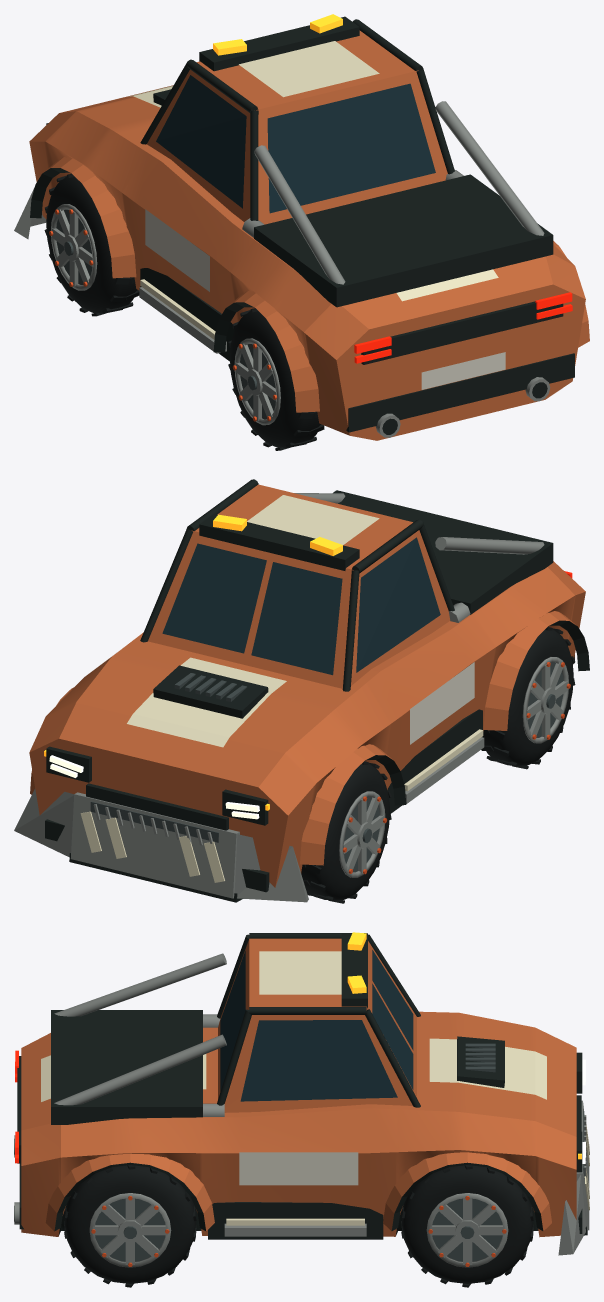
Rendered from bruiser.glb.
3 views of the same model, one above another, from view 1: azimuth 30°, elevation 25°; view 2: azimuth 150°, elevation 25°; view 3: azimuth 270°, elevation 25° (orthographic). The views are drawn at different scales.
Parts seen in each view (by area): view 1: Body paint, Body trim, Body glass, Wheel rubber (×2), Body steel, Body stripe, Wheel steel (×2), Body decal, Body taillight, Wheel brake (×2), Body amber; view 2: Body paint, Body trim, Body glass, Body steel, Body stripe, Wheel rubber (×2), Wheel steel (×2), Body decal, Body brake, Wheel brake (×2), Body amber, Body headlight; view 3: Body paint, Body trim, Wheel rubber (×2), Body glass, Body stripe, Body steel, Wheel steel (×2), Body decal, Wheel brake (×2), Body brake, Body amber.
Part boxes in pixels (bbox=[...]): Body paint: bbox=[29, 30, 589, 440]; Body trim: bbox=[30, 16, 574, 434]; Body glass: bbox=[156, 75, 435, 213]; Wheel rubber (×2): bbox=[44, 174, 324, 450]; Body steel: bbox=[14, 101, 550, 437]; Body stripe: bbox=[129, 41, 498, 339]; Wheel steel (×2): bbox=[51, 204, 280, 425]; Body decal: bbox=[145, 209, 505, 389]; Body taillight: bbox=[354, 292, 572, 363]; Wheel brake (×2): bbox=[56, 209, 275, 419]; Body amber: bbox=[213, 14, 342, 55]; Body paint: bbox=[29, 484, 585, 887]; Body trim: bbox=[45, 479, 589, 902]; Body glass: bbox=[162, 537, 440, 675]; Body steel: bbox=[14, 493, 544, 902]; Body stripe: bbox=[80, 495, 483, 882]; Wheel rubber (×2): bbox=[301, 626, 575, 903]; Wheel steel (×2): bbox=[339, 657, 568, 877]; Body decal: bbox=[410, 662, 474, 744]; Body brake: bbox=[90, 673, 246, 842]; Wheel brake (×2): bbox=[344, 662, 563, 872]; Body amber: bbox=[44, 514, 342, 810]; Body headlight: bbox=[49, 755, 259, 819]; Body paint: bbox=[21, 938, 576, 1237]; Body trim: bbox=[14, 933, 587, 1239]; Wheel rubber (×2): bbox=[64, 1165, 533, 1287]; Body glass: bbox=[220, 950, 413, 1101]; Body stripe: bbox=[41, 951, 589, 1225]; Body steel: bbox=[14, 953, 589, 1255]; Wheel steel (×2): bbox=[89, 1193, 508, 1267]; Body decal: bbox=[239, 1152, 358, 1185]; Wheel brake (×2): bbox=[95, 1198, 502, 1261]; Body brake: bbox=[465, 1043, 584, 1176]; Body amber: bbox=[347, 932, 581, 1159].
Size of the model in its own units: 1.93 by 1.77 by 3.48.
